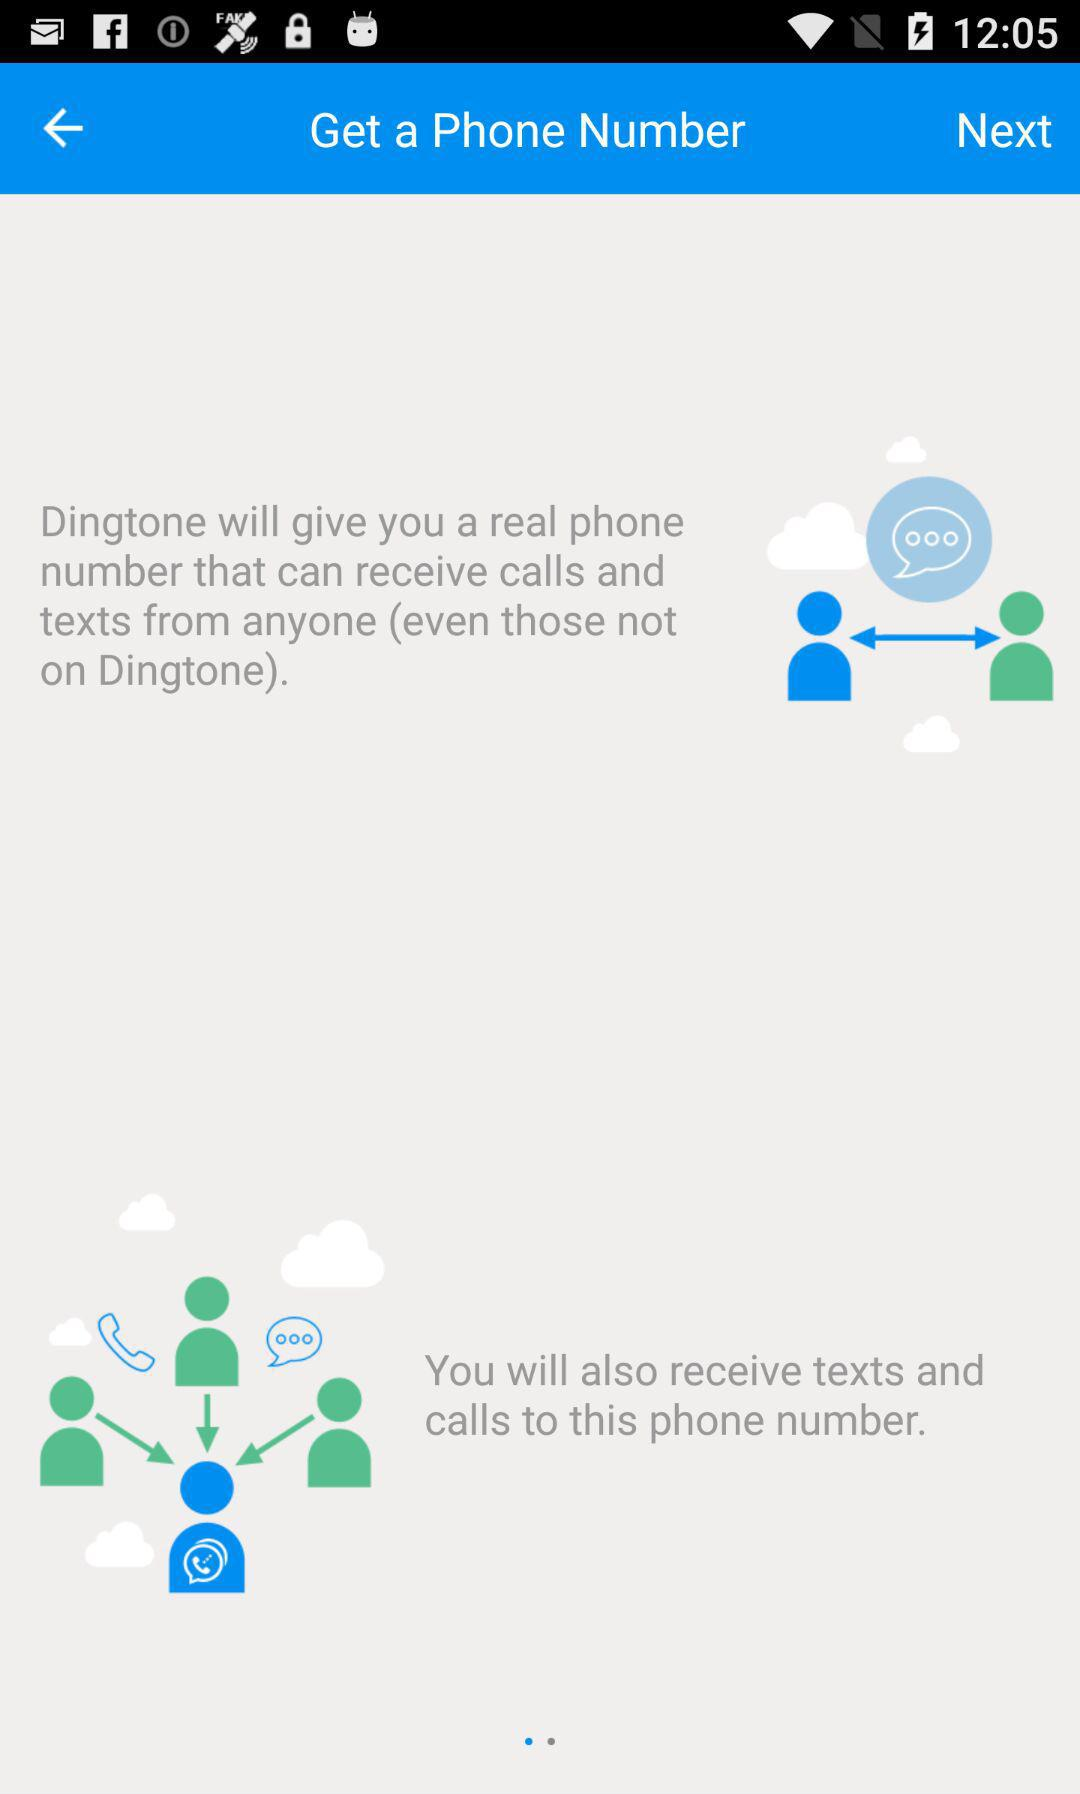Icon: (44, 108, 85, 150)
Image: (38, 1193, 386, 1594), (767, 436, 1054, 753)
PageIndicator: (524, 1736, 557, 1747)
Text: (40, 504, 685, 697), (423, 1351, 984, 1445), (311, 111, 747, 151), (957, 113, 1053, 150)
Toolbar: (1, 64, 1080, 195)
UpperTaskBar: (1, 1, 1080, 64)
